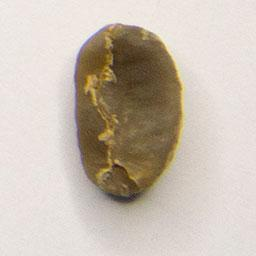premium: (71, 18, 187, 202)
